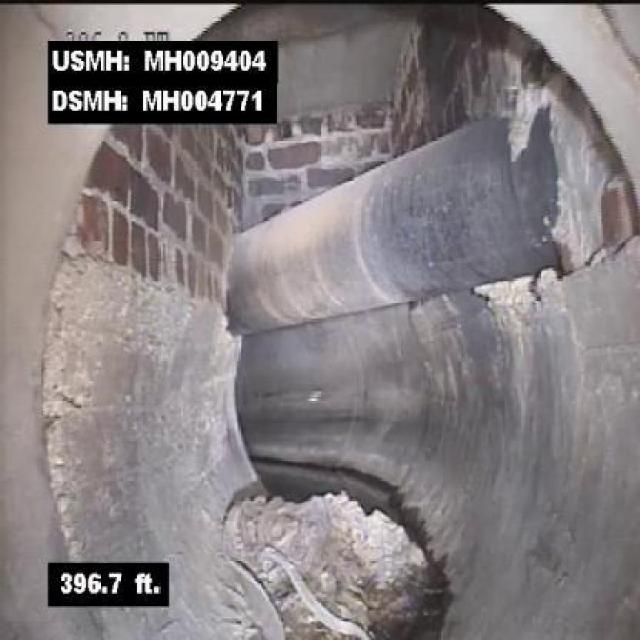Debris: (218, 489, 440, 638)
Utility intrusion: (220, 79, 594, 338)
